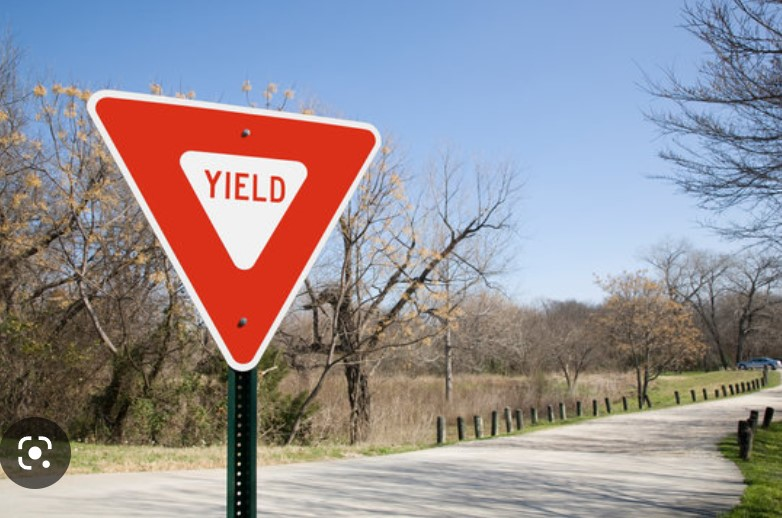Yeild: (82, 85, 385, 375)
